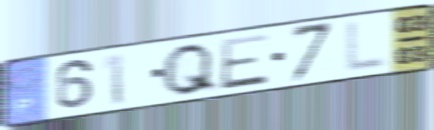1: (101, 50, 127, 107)
6: (54, 58, 95, 113)
7: (288, 19, 336, 86)
E: (218, 31, 271, 92)
L: (342, 18, 389, 75)
Q: (159, 41, 221, 98)
